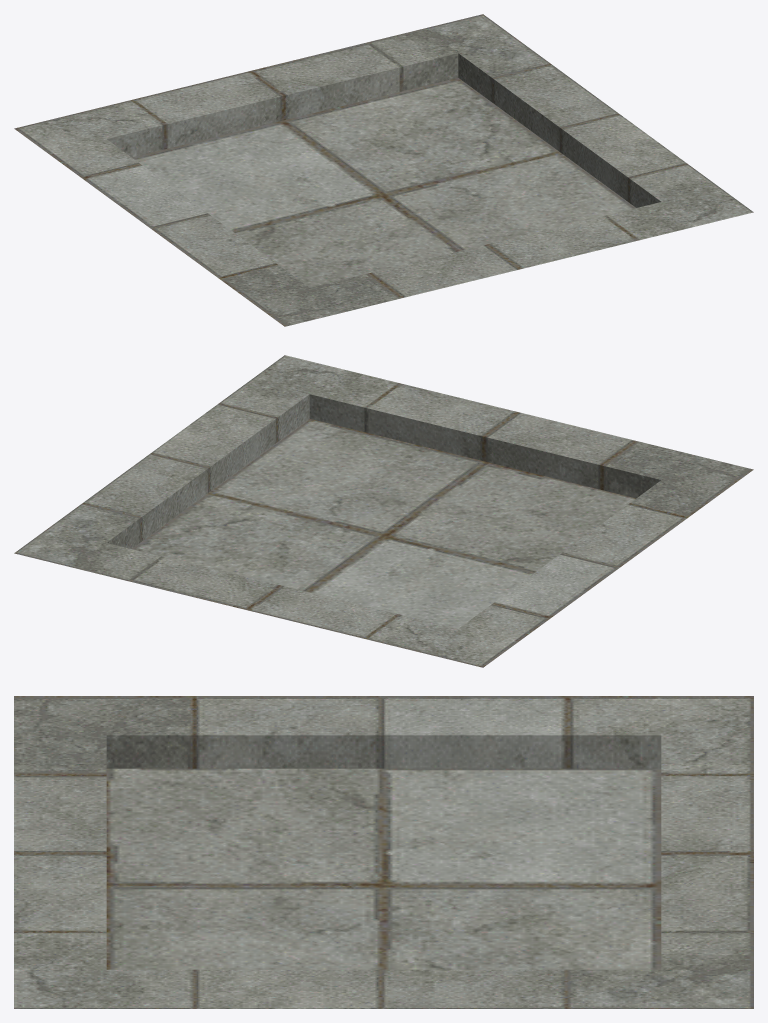
Rendered from floor_step_x1_2x2.fbx.
3 renders of one model, top to bottom at view 1: azimuth 30°, elevation 25°; view 2: azimuth 150°, elevation 25°; view 3: azimuth 270°, elevation 25°, orthographic. The views are drawn at different scales.
Parts seen in each view (by area): view 1: floor_step_x1_2x2; view 2: floor_step_x1_2x2; view 3: floor_step_x1_2x2.
Boxes of the visible parts, x1,y1,x2,y2 form: floor_step_x1_2x2: (14, 14, 753, 326); floor_step_x1_2x2: (14, 355, 753, 667); floor_step_x1_2x2: (14, 696, 753, 1008).
Bounding box in the file's own units: 200 × 10 × 200.
